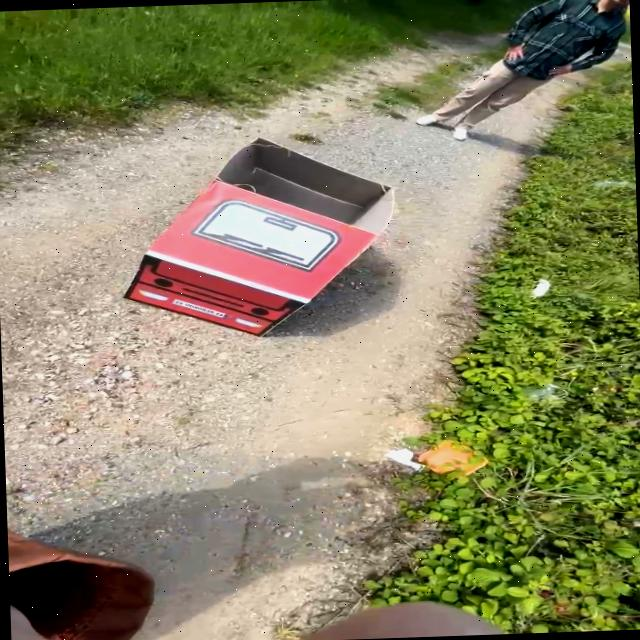red_car: (79, 126, 461, 371)
